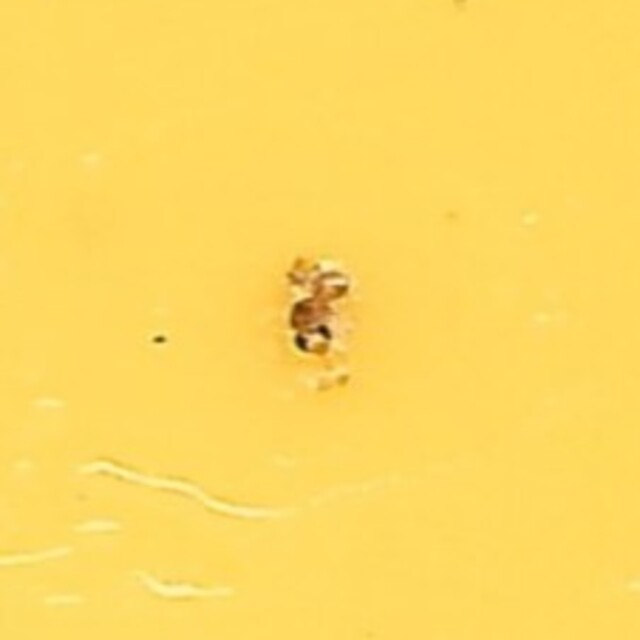Hymenoptera: (283, 250, 357, 390)
